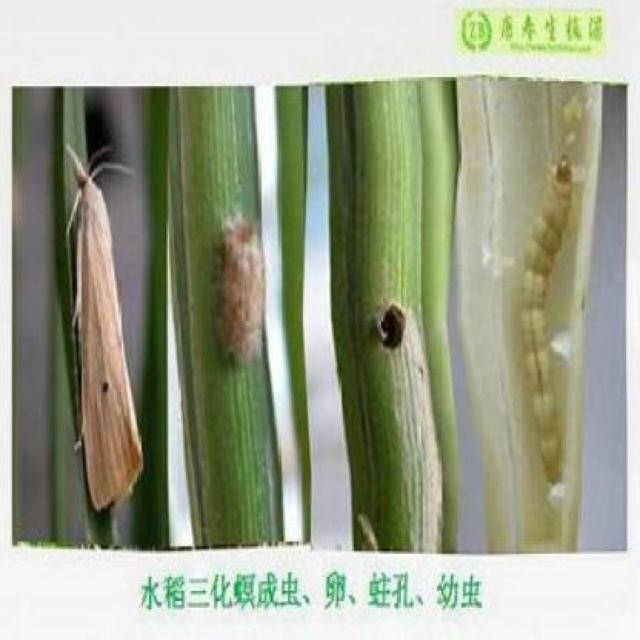stem-borer: (60, 139, 145, 516)
